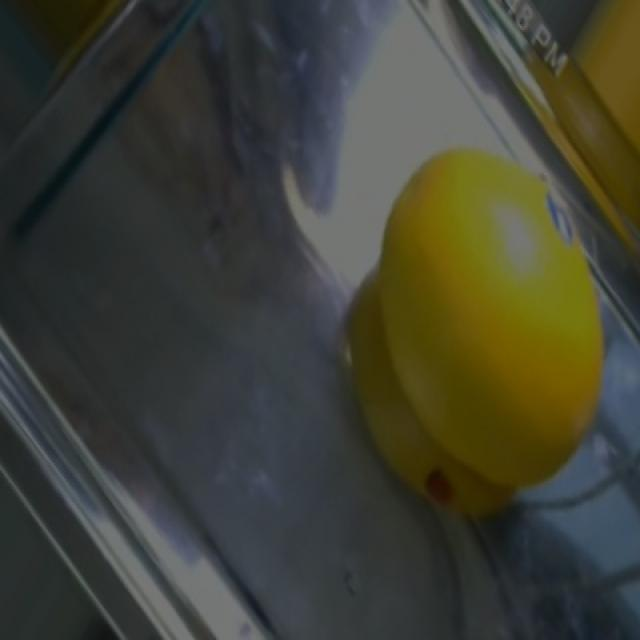Fruit: (565, 0, 640, 189)
